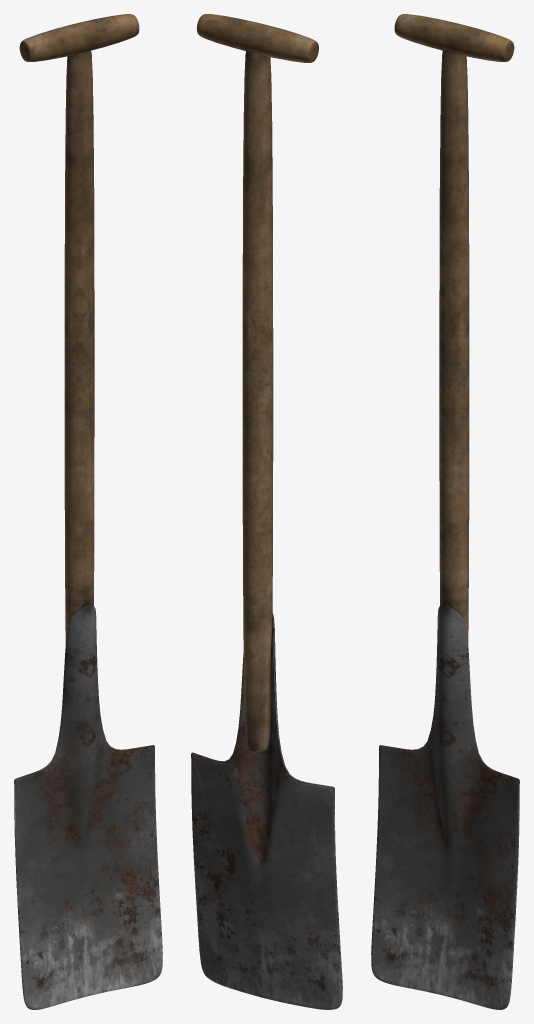
The model's file is rusted_spade_01.glb.
The picture shows the model from 3 angles, left to right: view 1: azimuth 30°, elevation 25°; view 2: azimuth 150°, elevation 25°; view 3: azimuth 330°, elevation 25°; orthographic projection. The views are drawn at different scales.
Visible parts, largest first — view 1: rusted_spade_01; view 2: rusted_spade_01; view 3: rusted_spade_01.
Part boxes in pixels (left/top/right/bottom): rusted_spade_01: left=14, top=14, right=162, bottom=1009; rusted_spade_01: left=191, top=14, right=342, bottom=1009; rusted_spade_01: left=371, top=14, right=519, bottom=1009.
Size of the model in its own units: 0.1681 by 1.1 by 0.0456.
Materials: 1 (1 with a texture image).
